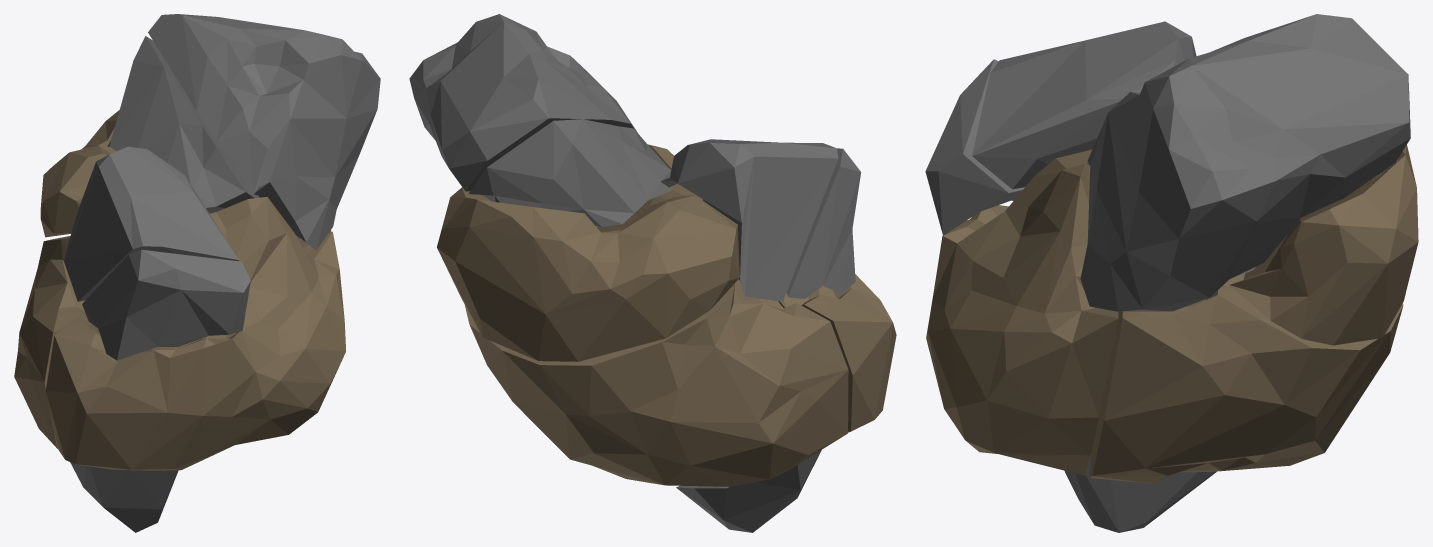
File: SM_LP_Stone3_Pieces.fbx
3 renders of one model, left to right at view 1: azimuth 30°, elevation 25°; view 2: azimuth 150°, elevation 25°; view 3: azimuth 270°, elevation 25°, orthographic. The views are drawn at different scales.
Parts seen in each view (by area): view 1: SM_LP_Stone3_Pieces_4, SM_LP_Stone3_Pieces_8, SM_LP_Stone3_Pieces_3, SM_LP_Stone3_Pieces_1, SM_LP_Stone3_Pieces_7, SM_LP_Stone3_Pieces_5, SM_LP_Stone3_Pieces_2, SM_LP_Stone3_Pieces_6; view 2: SM_LP_Stone3_Pieces_5, SM_LP_Stone3_Pieces_6, SM_LP_Stone3_Pieces_8, SM_LP_Stone3_Pieces_3, SM_LP_Stone3_Pieces_7, SM_LP_Stone3_Pieces_4, SM_LP_Stone3_Pieces_1, SM_LP_Stone3_Pieces_2; view 3: SM_LP_Stone3_Pieces_8, SM_LP_Stone3_Pieces_4, SM_LP_Stone3_Pieces_5, SM_LP_Stone3_Pieces_6, SM_LP_Stone3_Pieces_3, SM_LP_Stone3_Pieces_1, SM_LP_Stone3_Pieces_2.
Part boxes in pixels (<box>): SM_LP_Stone3_Pieces_4: <box>45,196,345,470</box>; SM_LP_Stone3_Pieces_8: <box>148,14,380,250</box>; SM_LP_Stone3_Pieces_3: <box>64,146,238,301</box>; SM_LP_Stone3_Pieces_1: <box>82,249,250,360</box>; SM_LP_Stone3_Pieces_7: <box>107,36,259,213</box>; SM_LP_Stone3_Pieces_5: <box>14,230,331,448</box>; SM_LP_Stone3_Pieces_2: <box>70,462,178,532</box>; SM_LP_Stone3_Pieces_6: <box>40,110,119,237</box>; SM_LP_Stone3_Pieces_5: <box>465,226,848,486</box>; SM_LP_Stone3_Pieces_6: <box>437,187,739,361</box>; SM_LP_Stone3_Pieces_8: <box>409,14,637,202</box>; SM_LP_Stone3_Pieces_3: <box>670,139,838,301</box>; SM_LP_Stone3_Pieces_7: <box>468,119,677,226</box>; SM_LP_Stone3_Pieces_4: <box>648,144,896,432</box>; SM_LP_Stone3_Pieces_1: <box>786,148,861,298</box>; SM_LP_Stone3_Pieces_2: <box>676,450,821,532</box>; SM_LP_Stone3_Pieces_8: <box>1080,14,1410,311</box>; SM_LP_Stone3_Pieces_4: <box>926,149,1118,475</box>; SM_LP_Stone3_Pieces_5: <box>1089,273,1403,483</box>; SM_LP_Stone3_Pieces_6: <box>1229,145,1418,345</box>; SM_LP_Stone3_Pieces_3: <box>972,21,1196,189</box>; SM_LP_Stone3_Pieces_1: <box>925,59,1024,235</box>; SM_LP_Stone3_Pieces_2: <box>1064,454,1216,532</box>.
Size of the model in its own units: 1.16 by 1.32 by 0.9858.
